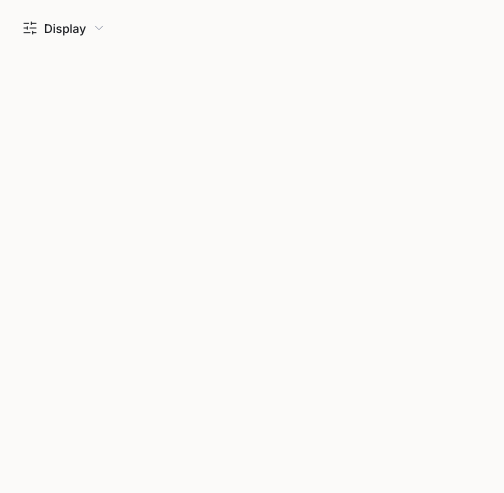
Test: grouping options carry live examples of what they would produce › names the user own containers under the container axes, capped at two
The width and height of the screenshot is (504, 493).
Press the mouse on the button with test id "display-trigger-canvas" at (64,28), box [12, 12, 116, 44]
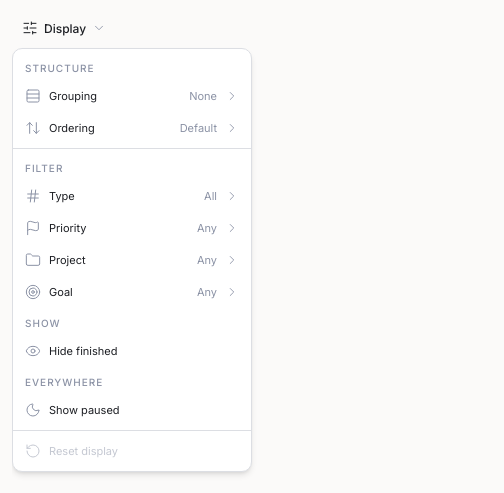
Click the menu item "Grouping None". click: (73,96)
box: [25, 88, 239, 104]
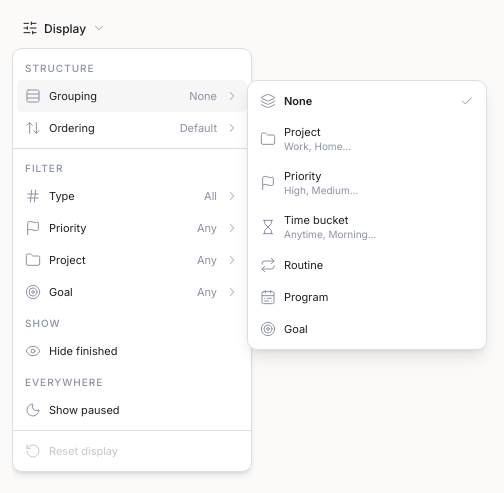
Expected: the menu item "Project Work, Home…" is shown, [260, 125, 351, 152]
